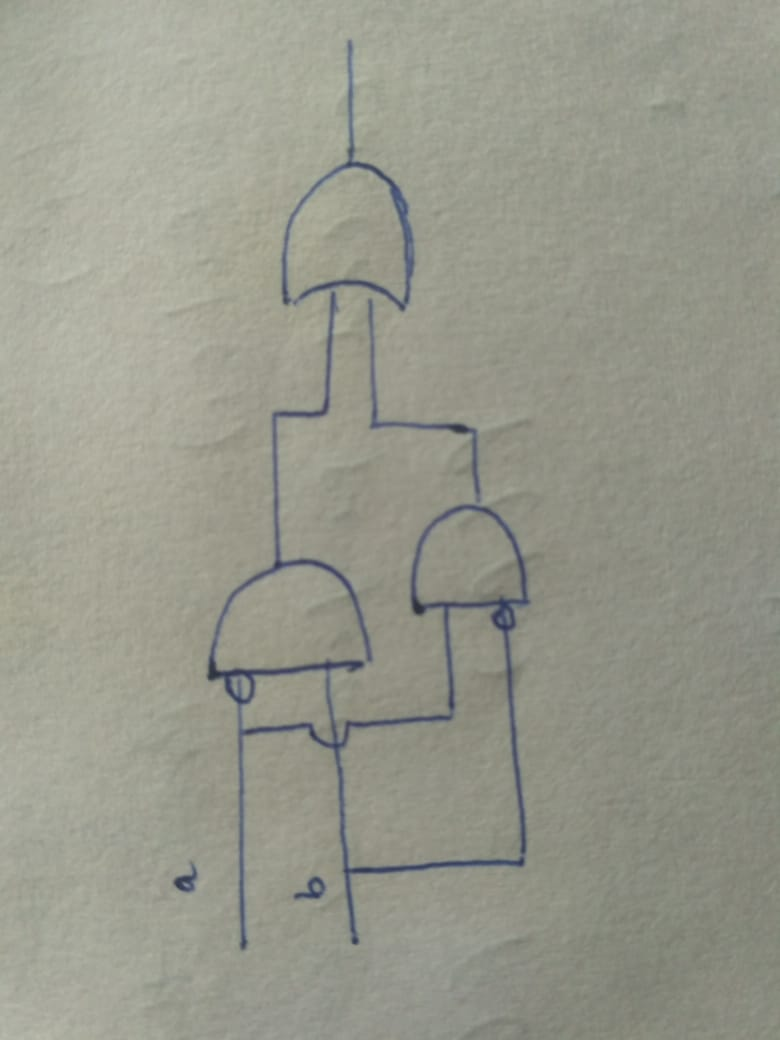and: (194, 527, 397, 705), (407, 498, 550, 644)
or: (256, 143, 461, 334)
